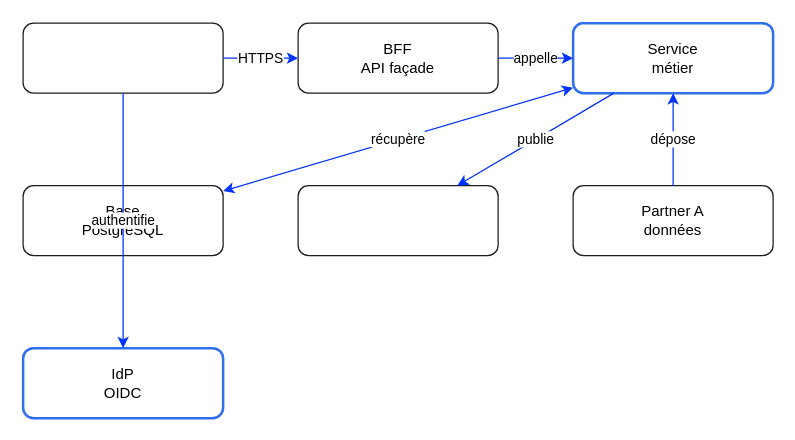
This 795x440 diagram has some shape labels left out. The centre of each missing label's shape, as x and y in pixels:
Bus événements: pixel 397 220
Frontend SPA: pixel 122 57
